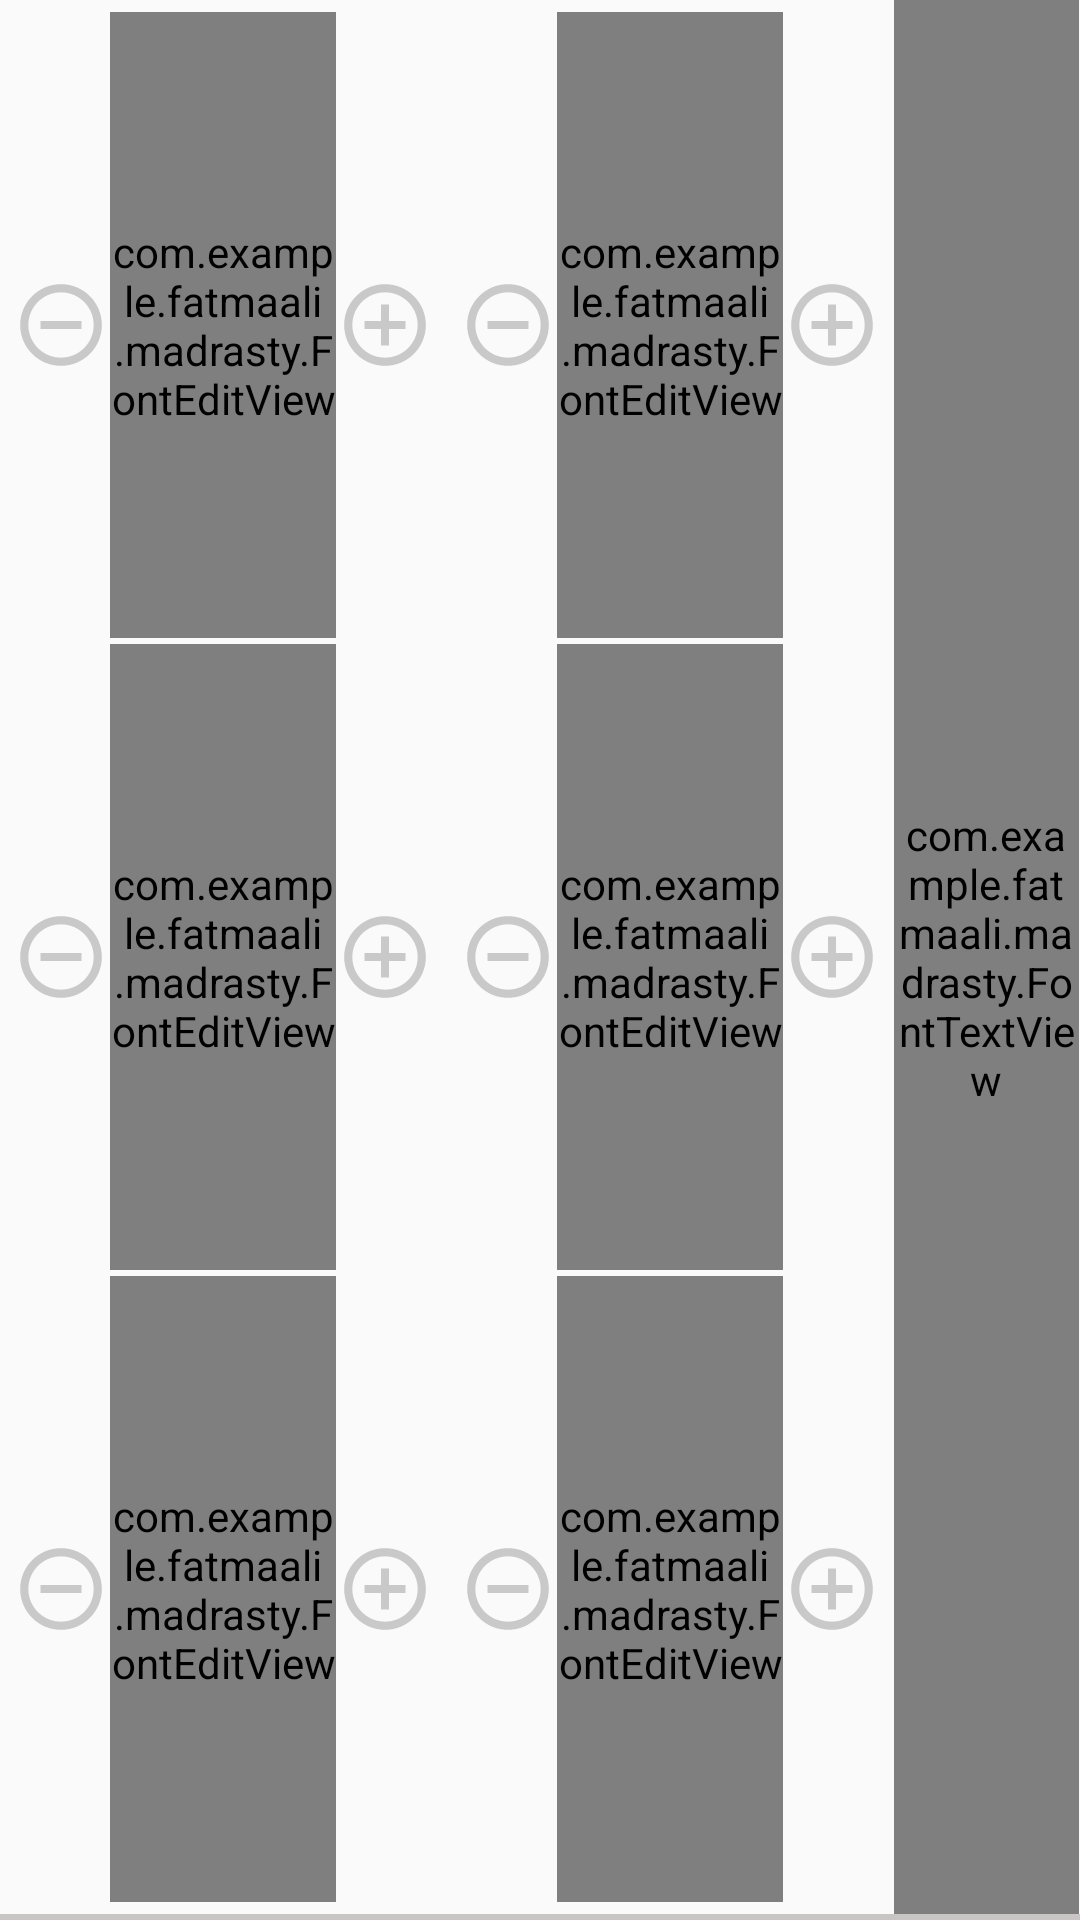

Icons on this 1080 x 1920 Android screen, each with the point to tap as (x,y):
add circle: (385,325), (832,325), (385,957), (832,957), (385,1589), (832,1589)
remove circle: (61,325), (508,325), (61,957), (508,957), (61,1589), (508,1589)
